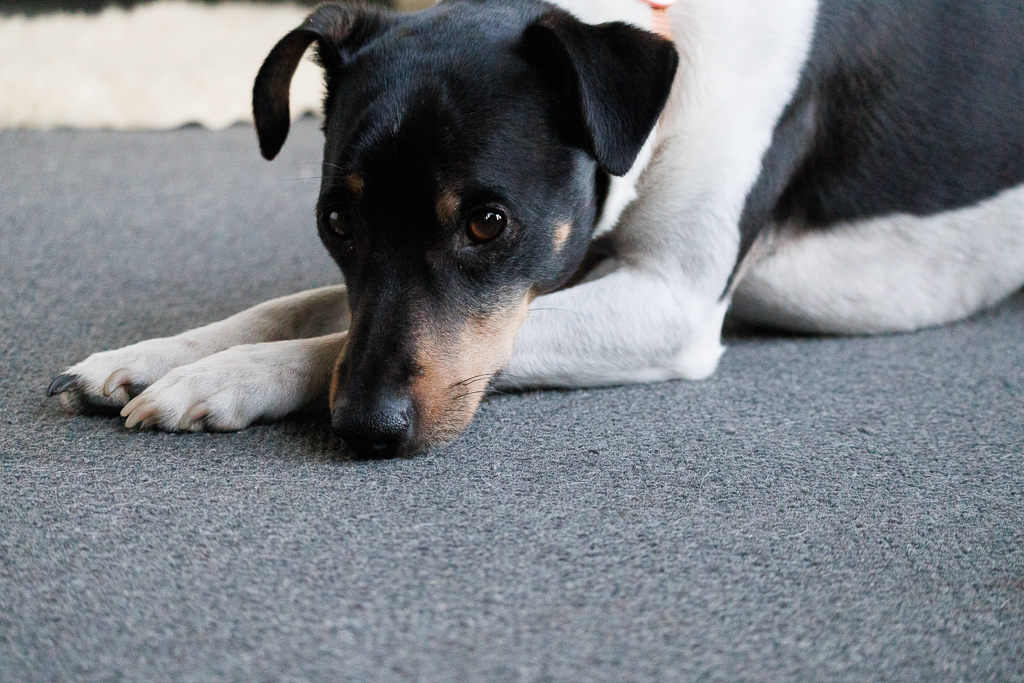Dog: (37, 0, 1024, 469)
